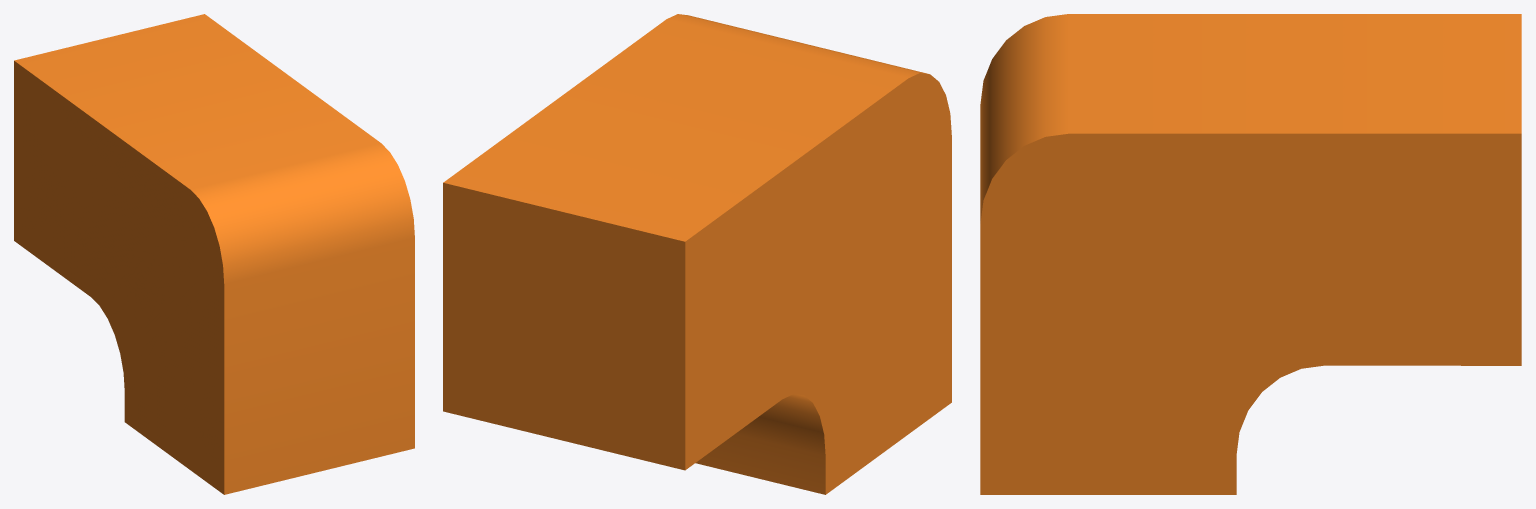
The model's file is Link Block Orange L Type.fbx.
3 renders of one model, left to right at view 1: azimuth 30°, elevation 25°; view 2: azimuth 150°, elevation 25°; view 3: azimuth 270°, elevation 25°, orthographic. The views are drawn at different scales.
Visible parts, largest first — view 1: Link Block Orange L Type; view 2: Link Block Orange L Type; view 3: Link Block Orange L Type.
Boxes of the visible parts, bbox=[...] form: Link Block Orange L Type: bbox=[14, 14, 414, 494]; Link Block Orange L Type: bbox=[443, 14, 951, 494]; Link Block Orange L Type: bbox=[980, 14, 1521, 494].
Size of the model in its own units: 100 by 141 by 191.
